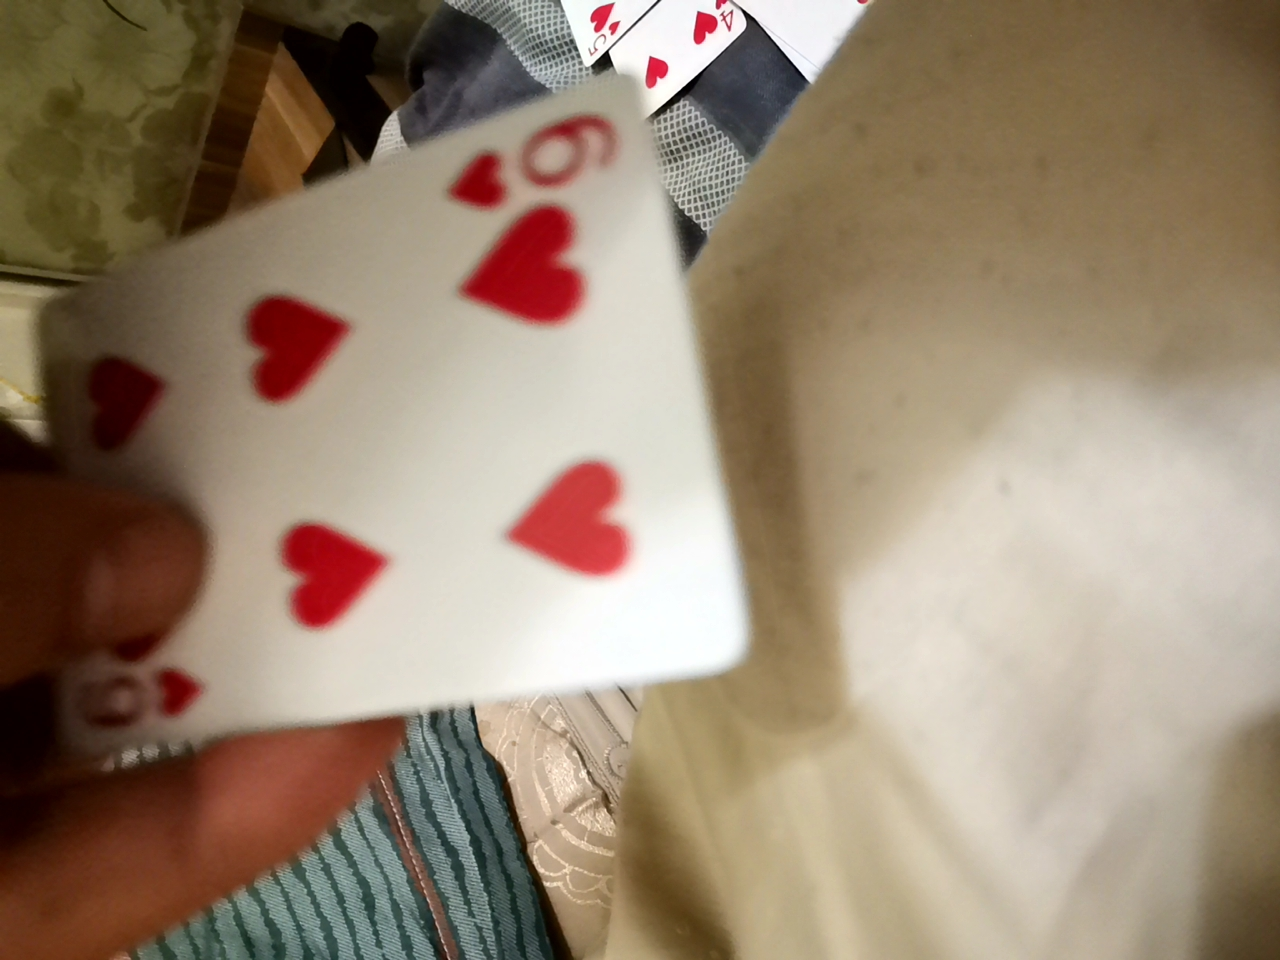hx 6: (100, 83, 767, 769)
